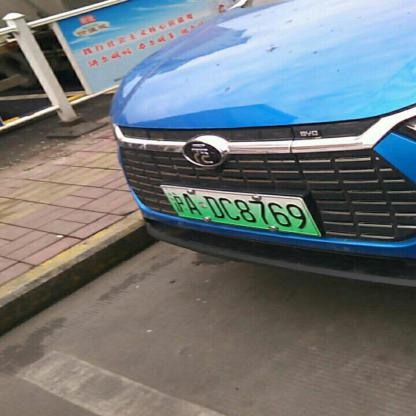lp: (160, 185, 319, 236)
